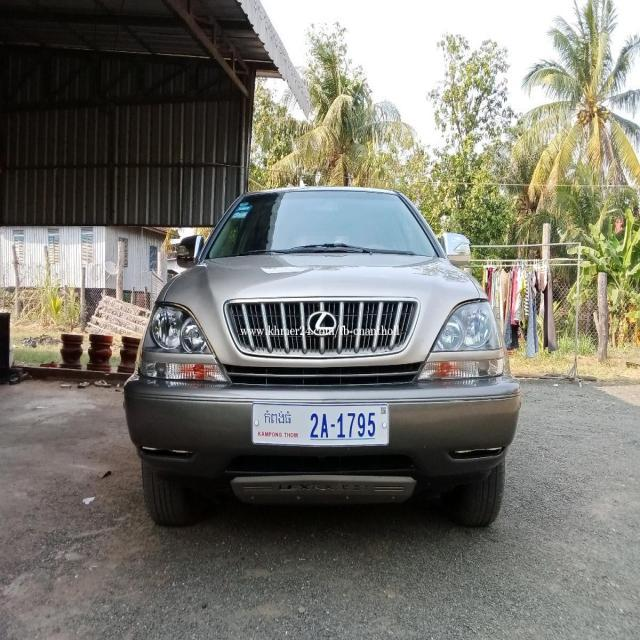Kampong_Thom: (265, 410, 291, 426)
